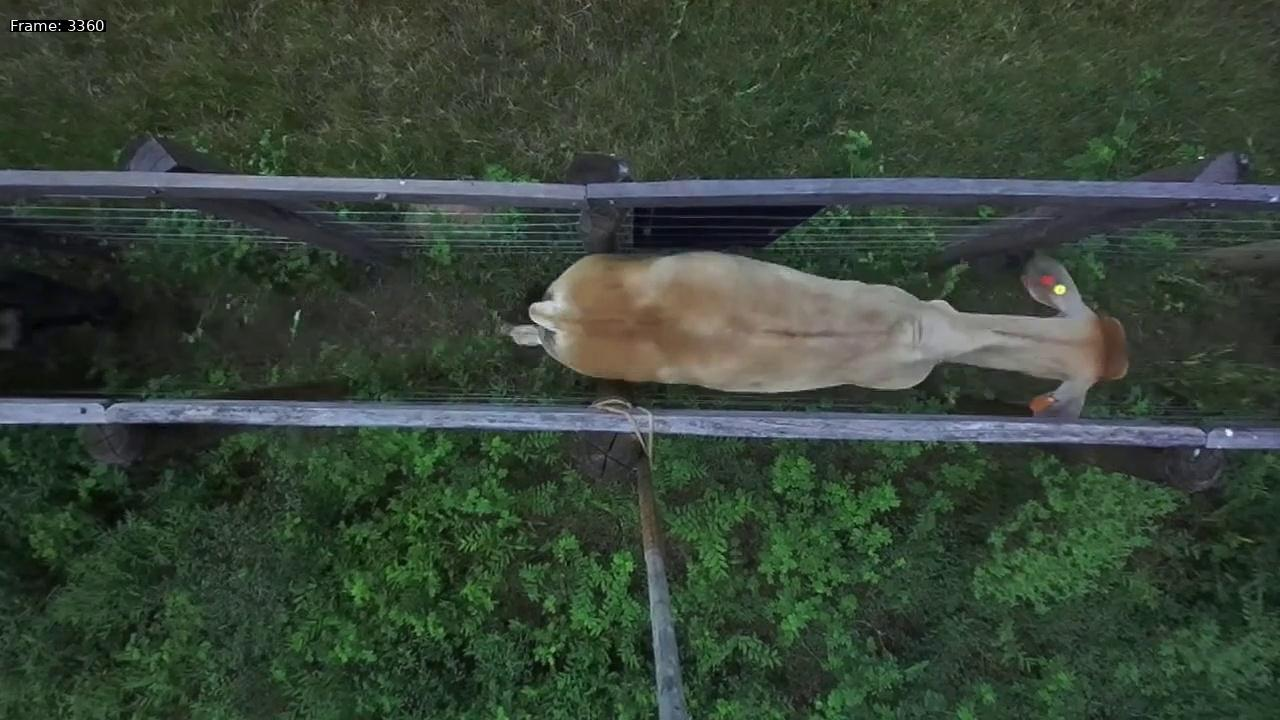cattle: (495, 230, 1137, 428)
